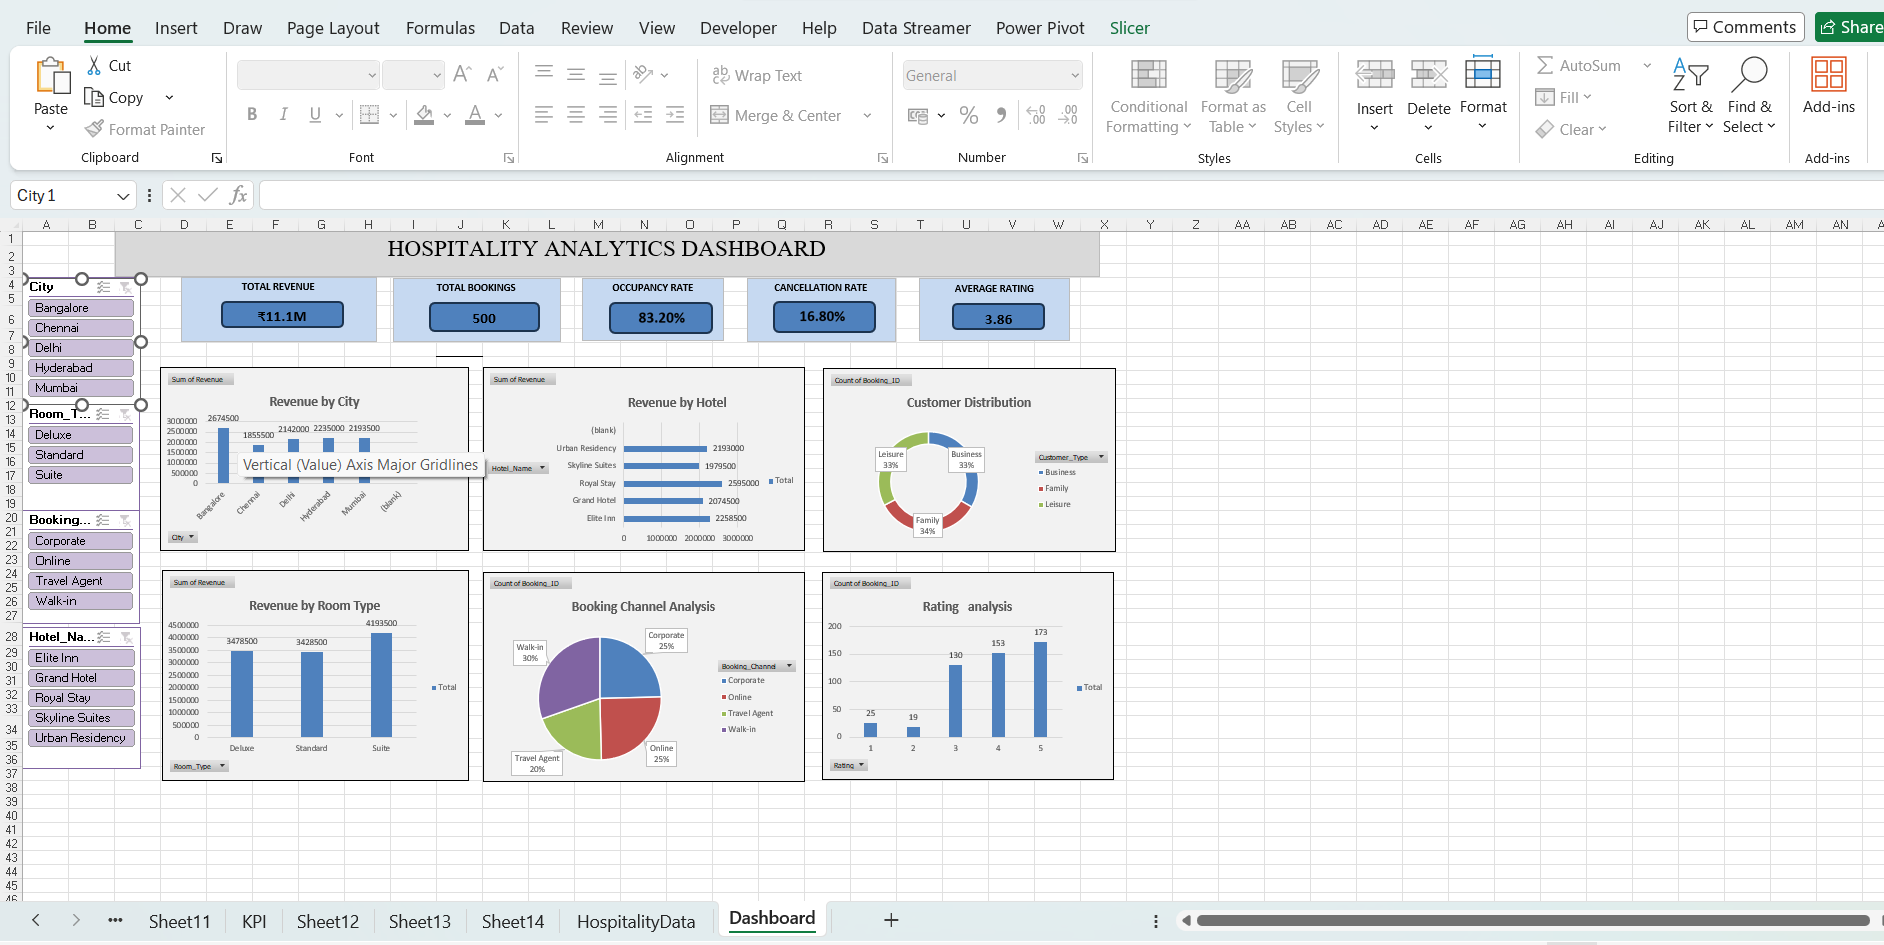

This screenshot's page, from the dashboard's own definition file:
{"tool":"powerbi","page":{"name":"Executive Overview","canvas":[1280,720],"ordinal":10},"visuals":[{"type":"cardVisual","fields":{"Data":["HospitalityData.Total Revenue"]},"box":[10.1,73.6,204.9,119.7],"z":0},{"type":"cardVisual","fields":{"Data":["HospitalityData.Total Bookings"]},"box":[251,73.6,204.9,119.7],"z":1000},{"type":"cardVisual","fields":{"Data":["HospitalityData.Occupancy Rate"]},"box":[516.5,73.6,204.9,119.7],"z":2000},{"type":"cardVisual","fields":{"Data":["HospitalityData.Cancellation Rate"]},"box":[803.6,73.6,204.9,119.7],"z":3000},{"type":"cardVisual","fields":{"Data":["HospitalityData.Average Rating"]},"box":[1074.9,73.6,204.9,119.7],"z":4000},{"type":"lineChart","fields":{"Category":["HospitalityData.Booking_Date.Variation.Date Hierarchy.Month"],"Y":["Sum(HospitalityData.Revenue)"]},"box":[365,471.8,450.1,248.2],"z":5000},{"type":"clusteredBarChart","fields":{"Category":["HospitalityData.City"],"Y":["Sum(HospitalityData.Revenue)"]},"box":[845.5,471.8,434.3,248.2],"z":6000},{"type":"pieChart","fields":{"Category":["HospitalityData.Booking_Channel"],"Y":["CountNonNull(HospitalityData.Booking_ID)"]},"box":[846.9,204.9,432.8,256.8],"z":7000},{"type":"donutChart","fields":{"Category":["HospitalityData.Rating"],"Y":["CountNonNull(HospitalityData.Booking_ID)"]},"box":[365,204.9,453,256.8],"z":8000},{"type":"slicer","fields":{"Values":["HospitalityData.City"]},"box":[10.1,212.1,204.9,177.5],"z":9000},{"type":"slicer","fields":{"Values":["HospitalityData.Booking_Channel"]},"box":[10.1,389.5,204.9,142.8],"z":10000},{"type":"slicer","fields":{"Values":["HospitalityData.Hotel_Name"]},"box":[10.1,532.4,204.9,187.6],"z":11000},{"type":"textbox","box":[10.1,0,1268.2,73.6],"z":11001}]}

Visuals, with their boxes on the page's 1280x720 design canvas (x1, y1, x2, y2). These are canvas units, not pixel positions in the 1884x945 screenshot, which may show the page scaled, cropped or inside an application window:
cardVisual - HospitalityData.Total Revenue: pyautogui.locateOnScreen(10, 74, 215, 193)
cardVisual - HospitalityData.Total Bookings: pyautogui.locateOnScreen(251, 74, 456, 193)
cardVisual - HospitalityData.Occupancy Rate: pyautogui.locateOnScreen(516, 74, 721, 193)
cardVisual - HospitalityData.Cancellation Rate: pyautogui.locateOnScreen(804, 74, 1008, 193)
cardVisual - HospitalityData.Average Rating: pyautogui.locateOnScreen(1075, 74, 1280, 193)
lineChart - HospitalityData.Booking_Date.Variation.Date Hierarchy.Month x Sum(HospitalityData.Revenue): pyautogui.locateOnScreen(365, 472, 815, 720)
clusteredBarChart - HospitalityData.City x Sum(HospitalityData.Revenue): pyautogui.locateOnScreen(846, 472, 1280, 720)
pieChart - HospitalityData.Booking_Channel x CountNonNull(HospitalityData.Booking_ID): pyautogui.locateOnScreen(847, 205, 1280, 462)
donutChart - HospitalityData.Rating x CountNonNull(HospitalityData.Booking_ID): pyautogui.locateOnScreen(365, 205, 818, 462)
slicer - HospitalityData.City: pyautogui.locateOnScreen(10, 212, 215, 390)
slicer - HospitalityData.Booking_Channel: pyautogui.locateOnScreen(10, 390, 215, 532)
slicer - HospitalityData.Hotel_Name: pyautogui.locateOnScreen(10, 532, 215, 720)
textbox: pyautogui.locateOnScreen(10, 0, 1278, 74)
